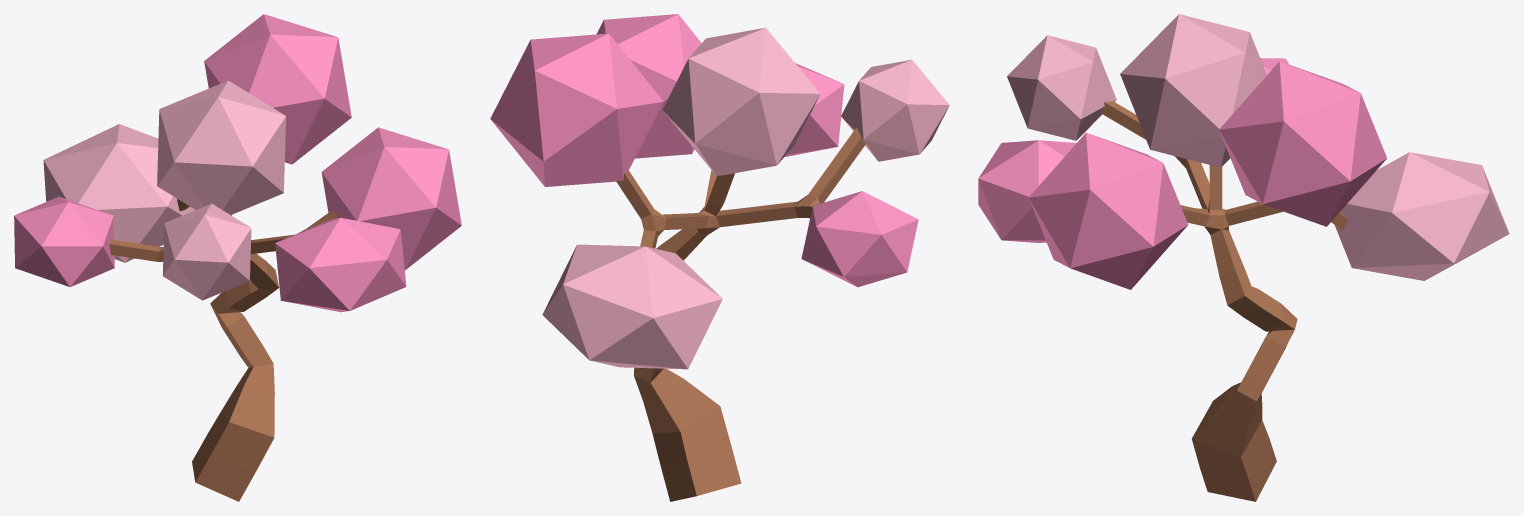
The model's file is tree_pink_01.fbx.
The picture shows the model from 3 angles, left to right: view 1: azimuth 30°, elevation 25°; view 2: azimuth 150°, elevation 25°; view 3: azimuth 270°, elevation 25°; orthographic projection. The views are drawn at different scales.
Visible parts, largest first — view 1: tree_pink_1_mesh; view 2: tree_pink_1_mesh; view 3: tree_pink_1_mesh.
Part boxes in pixels (x1,y1,x2,y2): tree_pink_1_mesh: (14,14,461,501); tree_pink_1_mesh: (490,14,949,501); tree_pink_1_mesh: (978,14,1509,501).
Bounding box in the file's own units: 1292 × 1456 × 1507.
